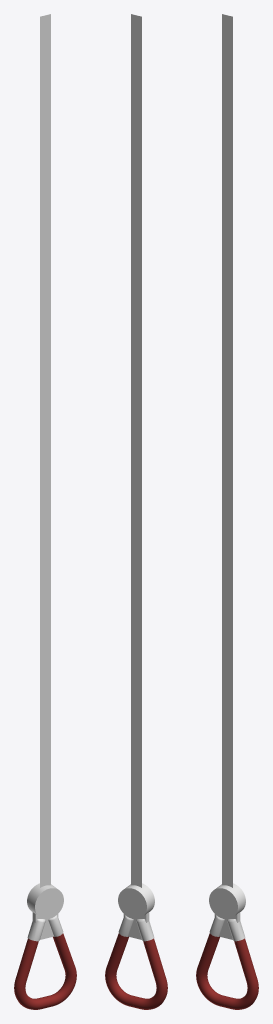
Rendered from mdl_zesty_ttchandle.gltf.
3 views of the same model, side by side, from view 1: azimuth 30°, elevation 25°; view 2: azimuth 150°, elevation 25°; view 3: azimuth 330°, elevation 25° (orthographic).
Visible parts, largest first — view 1: mdl_zesty_ttchandle; view 2: mdl_zesty_ttchandle; view 3: mdl_zesty_ttchandle.
Part boxes in pixels (<box>): mdl_zesty_ttchandle: <box>14,14,76,1009</box>; mdl_zesty_ttchandle: <box>105,14,167,1009</box>; mdl_zesty_ttchandle: <box>196,14,258,1009</box>.
Size of the model in its own units: 2.73 by 42.28 by 0.6158.
